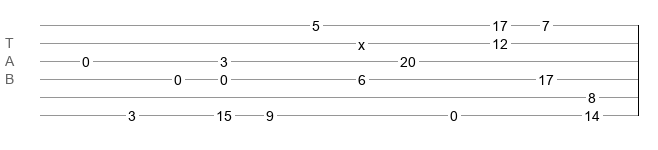0: (82, 54, 90, 64), (174, 72, 182, 82), (220, 72, 228, 82), (450, 108, 458, 118)
12: (492, 36, 508, 46)
14: (584, 108, 600, 118)
15: (216, 108, 232, 118)
17: (492, 18, 508, 28), (538, 72, 554, 82)
20: (400, 54, 416, 64)
3: (128, 108, 136, 118), (220, 54, 228, 64)
5: (312, 18, 320, 28)
6: (358, 72, 366, 82)
7: (542, 18, 550, 28)
8: (588, 90, 596, 100)
9: (266, 108, 274, 118)
x: (358, 37, 365, 45)
